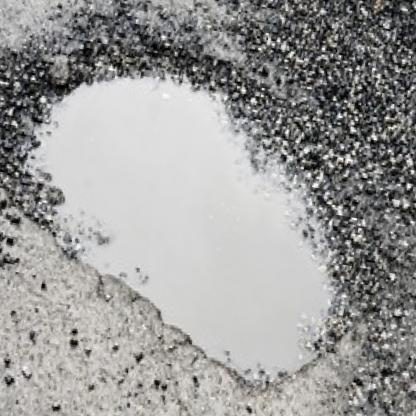pothole: (0, 20, 402, 406)
